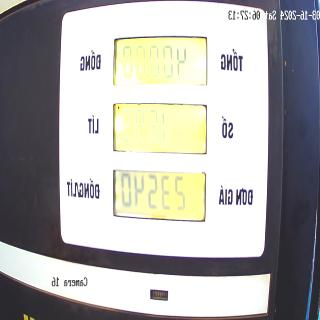screen: (111, 29, 208, 226)
